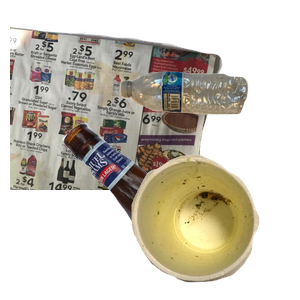glass: (60, 120, 300, 300)
paper: (10, 22, 225, 202)
plastic: (118, 69, 300, 176)
trash: (129, 152, 300, 300)
